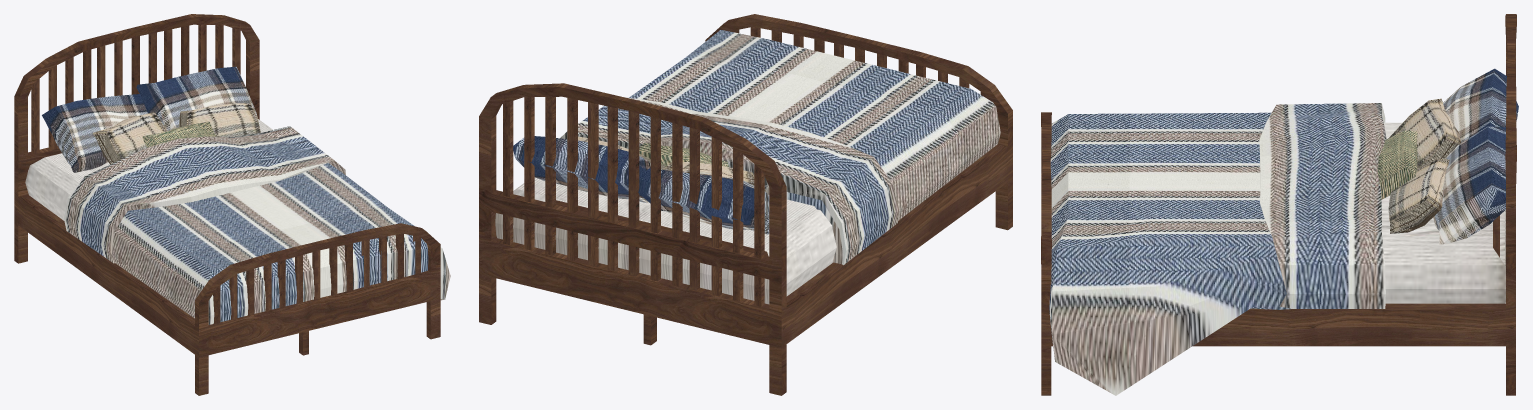
The model's file is doube_bed.glb.
3 renders of one model, left to right at view 1: azimuth 30°, elevation 25°; view 2: azimuth 150°, elevation 25°; view 3: azimuth 270°, elevation 25°, orthographic. The views are drawn at different scales.
Visible parts, largest first — view 1: double_bed; view 2: double_bed; view 3: double_bed.
Part boxes in pixels (left/top/right/bottom): double_bed: left=14, top=14, right=450, bottom=395; double_bed: left=479, top=14, right=1012, bottom=395; double_bed: left=1041, top=14, right=1518, bottom=395.
Size of the model in its own units: 1.08 by 0.8073 by 1.33.
7 materials, 7 textured.
